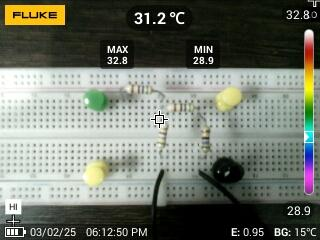resistor: (156, 121, 169, 152), (200, 124, 213, 154), (123, 83, 155, 95), (164, 102, 196, 113)
